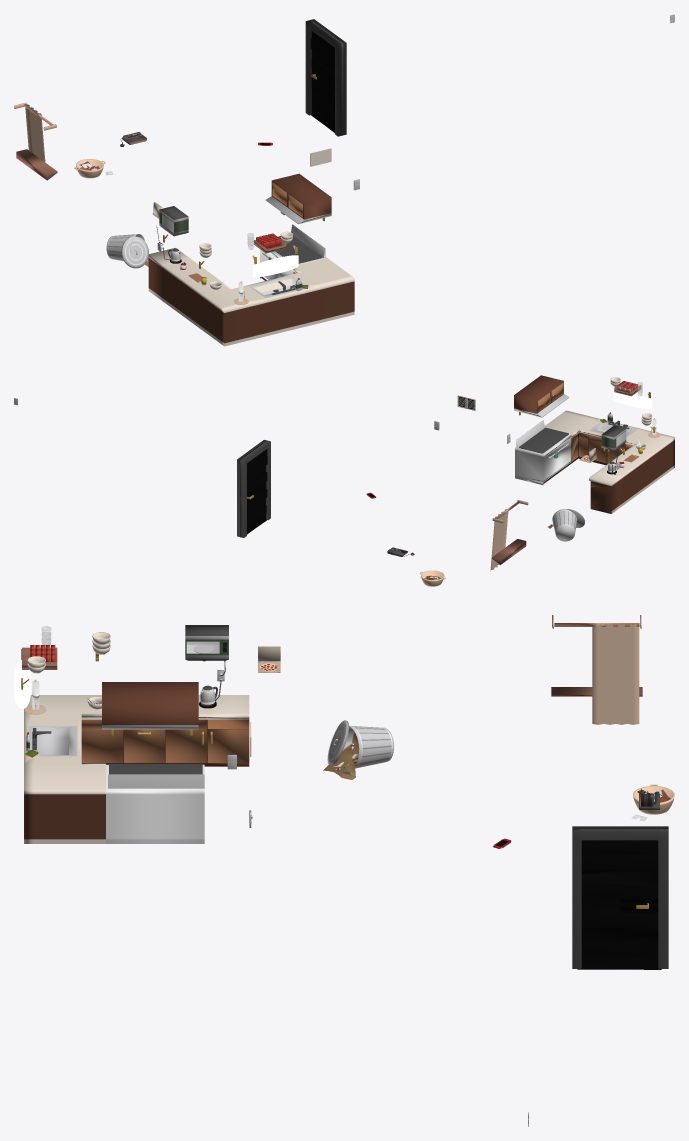
Rendered from KitchenRevamp.glb.
3 renders of one model, top to bottom at view 1: azimuth 30°, elevation 25°; view 2: azimuth 150°, elevation 25°; view 3: azimuth 270°, elevation 25°, orthographic. The views are drawn at different scales.
Visible parts, largest first — view 1: newktich, bathroomdoor, AboveStove, Curtains, trashBin, microwave, walllight, Stove, laundry; view 2: newktich, bathroomdoor, AboveStove, Curtains, trashBin, Stove, microwave, walllight, laundry; view 3: newktich, bathroomdoor, Curtains, AboveStove, trashBin, microwave, backofstove, Stove.
Boxes of the visible parts, box(x1,y1,x2,y2) form: newktich: box(148, 248, 354, 346); bathroomdoor: box(305, 19, 346, 136); AboveStove: box(265, 173, 331, 224); Curtains: box(14, 102, 57, 180); trashBin: box(106, 234, 208, 278); microwave: box(159, 206, 188, 236); walllight: box(252, 255, 298, 277); Stove: box(275, 235, 321, 263); laundry: box(74, 159, 113, 178); newktich: box(515, 410, 674, 513); bathroomdoor: box(237, 440, 270, 537); AboveStove: box(514, 375, 569, 417); Curtains: box(490, 500, 528, 570); trashBin: box(548, 445, 640, 541); Stove: box(519, 427, 568, 453); microwave: box(601, 425, 626, 450); walllight: box(613, 391, 652, 409); laundry: box(419, 570, 445, 586); newktich: box(24, 695, 249, 843); bathroomdoor: box(572, 826, 668, 969); Curtains: box(551, 615, 642, 724); AboveStove: box(102, 682, 198, 729); trashBin: box(323, 720, 393, 779); microwave: box(185, 625, 228, 660); backofstove: box(108, 774, 204, 788); Stove: box(109, 764, 202, 774).
Size of the model in its own units: 12.94 by 2 by 8.01.
8 materials, 5 textured.
